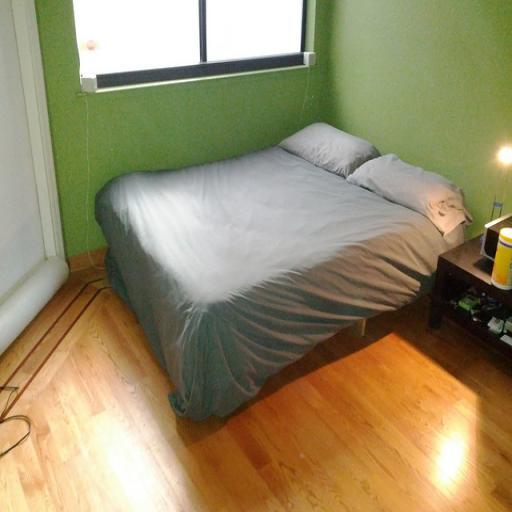bed: (76, 112, 486, 444)
